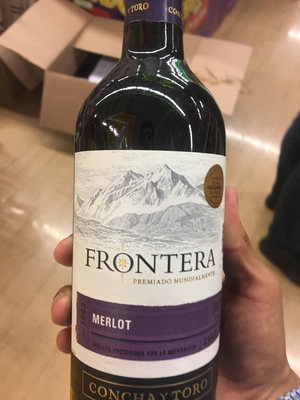frontera merlot: (65, 6, 231, 398)
